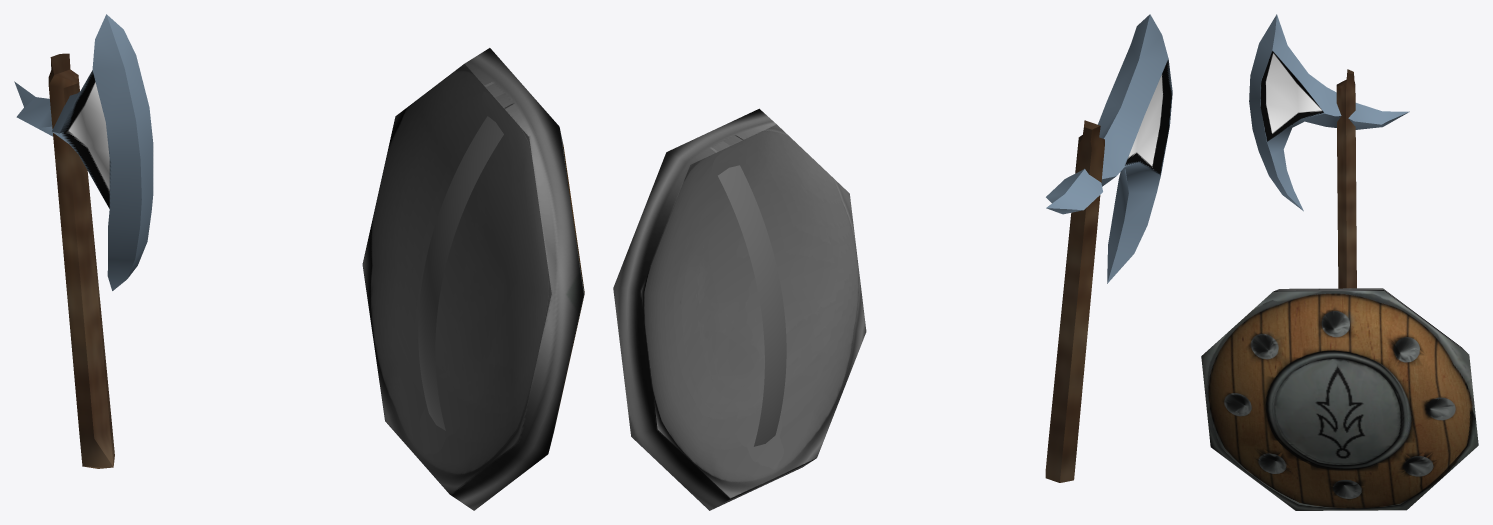
File: AF_M_Prop_09.FBX
3 views of the same model, side by side, from view 1: azimuth 30°, elevation 25°; view 2: azimuth 150°, elevation 25°; view 3: azimuth 270°, elevation 25° (orthographic). The views are drawn at different scales.
Visible parts, largest first — view 1: AF_M_Prop_09; view 2: AF_M_Prop_09; view 3: AF_M_Prop_09.
Part boxes in pixels (left/top/right/bottom): AF_M_Prop_09: left=14, top=14, right=584, bottom=510; AF_M_Prop_09: left=613, top=14, right=1172, bottom=510; AF_M_Prop_09: left=1201, top=14, right=1478, bottom=510.
Size of the model in its own units: 625 by 721 by 478.
1 material, 1 textured.
